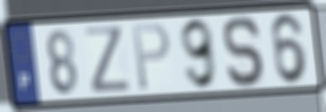6: (269, 11, 310, 88)
8: (45, 27, 79, 96)
9: (178, 17, 219, 92)
P: (130, 20, 172, 94)
S: (221, 14, 268, 89)
Z: (82, 24, 134, 96)
